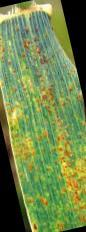Wheat: (16, 36, 58, 112), (55, 117, 74, 196), (14, 124, 47, 168)
